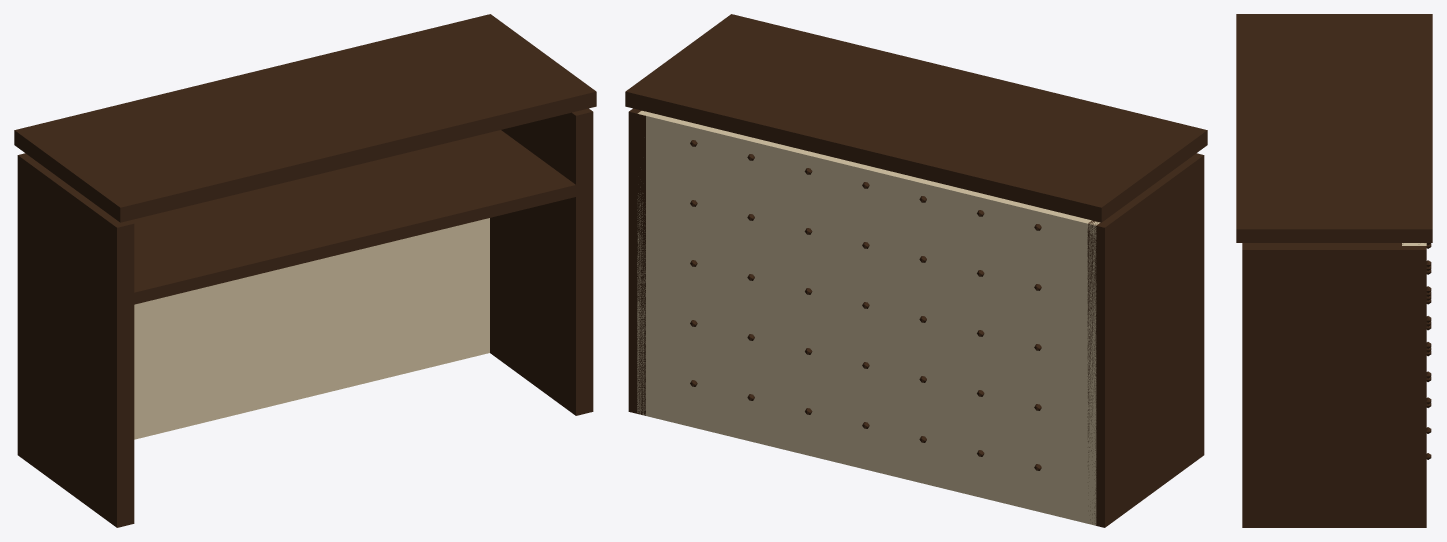
The model's file is desk.glb.
3 views of the same model, side by side, from view 1: azimuth 30°, elevation 25°; view 2: azimuth 150°, elevation 25°; view 3: azimuth 270°, elevation 25° (orthographic). The views are drawn at different scales.
Visible parts, largest first — view 1: desk; view 2: desk; view 3: desk.
Boxes of the visible parts, bbox=[...] form: desk: bbox=[14, 14, 596, 527]; desk: bbox=[625, 14, 1207, 527]; desk: bbox=[1236, 14, 1432, 527].
Bounding box in the file's own units: 1.66 × 1.08 × 0.64.
